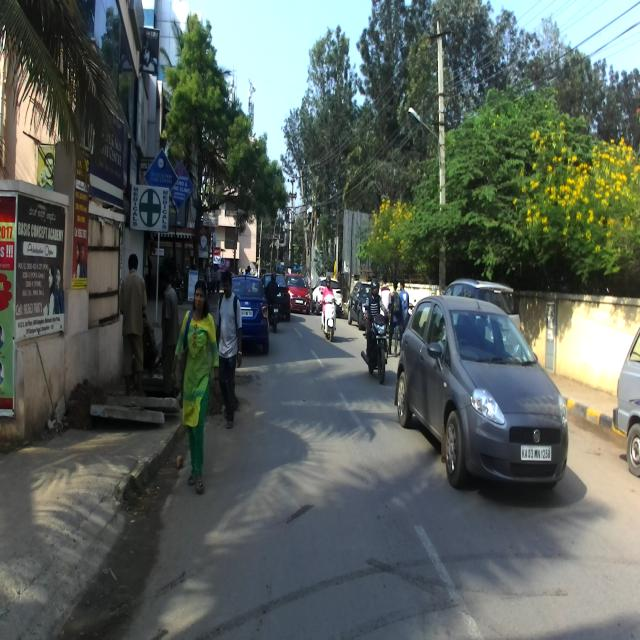car ahead at: (394, 283, 575, 501)
person ahead at: (168, 279, 217, 492)
